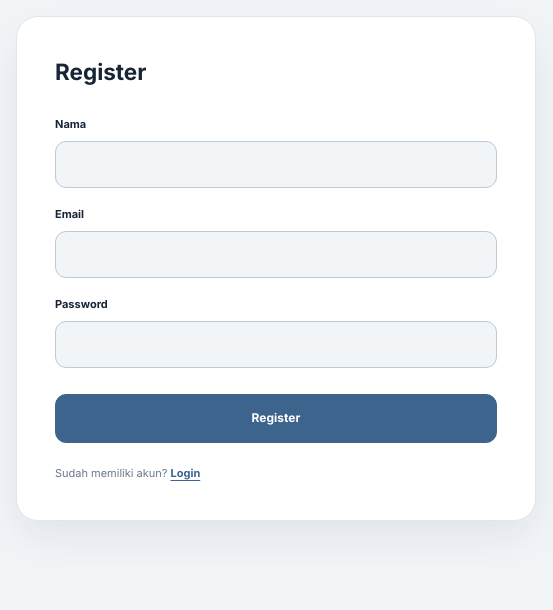
Test: authentication pages › shows a friendly alert and restores the button when registration throws
Type "Syahreza" into the field labelled "Nama".
click(276, 164); type("Syahreza")  # box [55,141,497,188]
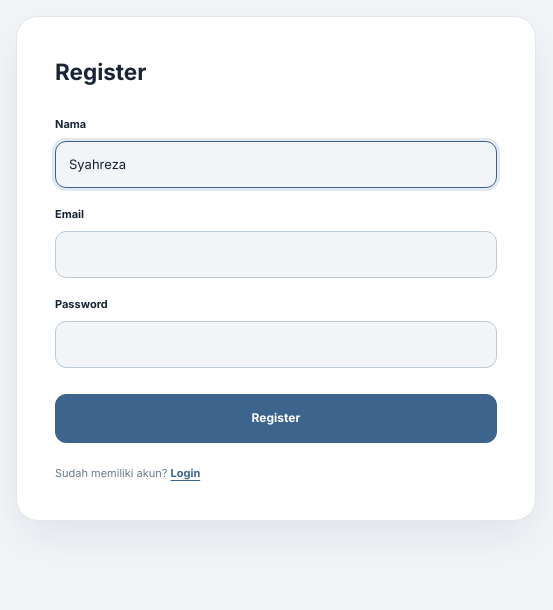
Type "user@example.com" into the field labelled "Email".
click(276, 254); type("user@example.com")  # box [55,231,497,278]
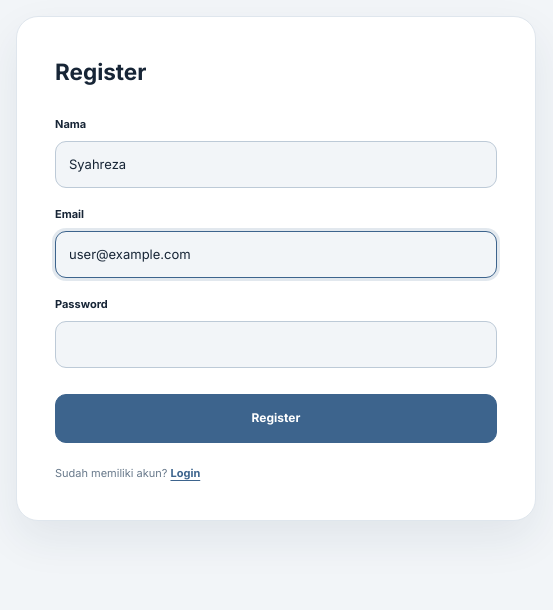
Type "secret123" into the password field labelled "Password".
click(276, 344); type("secret123")  # box [55,321,497,368]
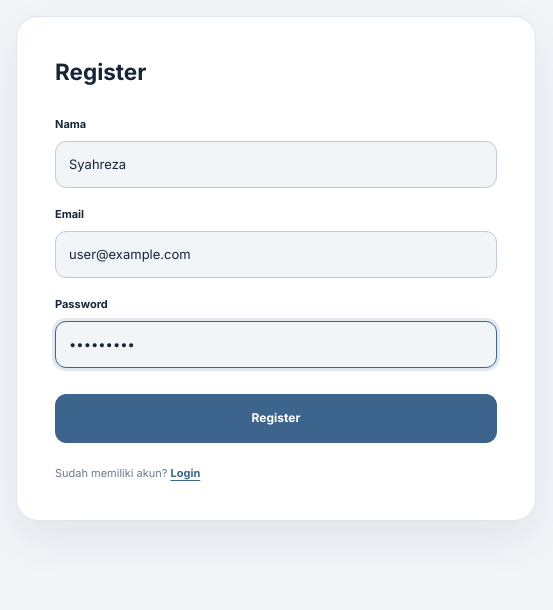
Click the button "Register".
click(276, 418)  # box [55,394,497,443]
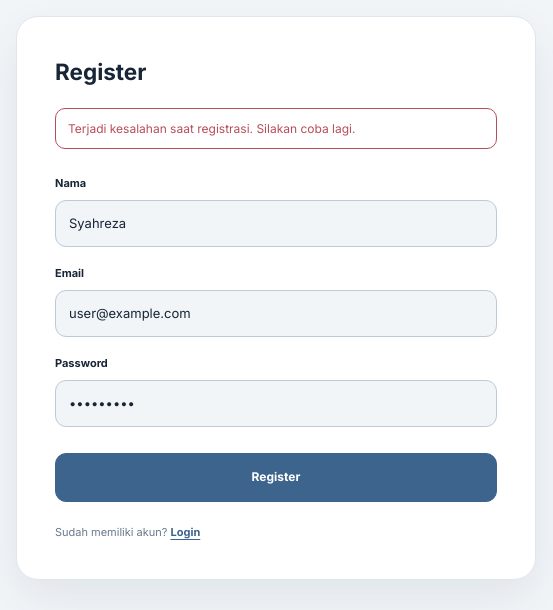
expect the button "Register" is enabled: met, box [55,453,497,502]
expect the message reads "Terjadi kesalahan saat registrasi. Silakan coba lagi.": met, box [68,121,355,136]
